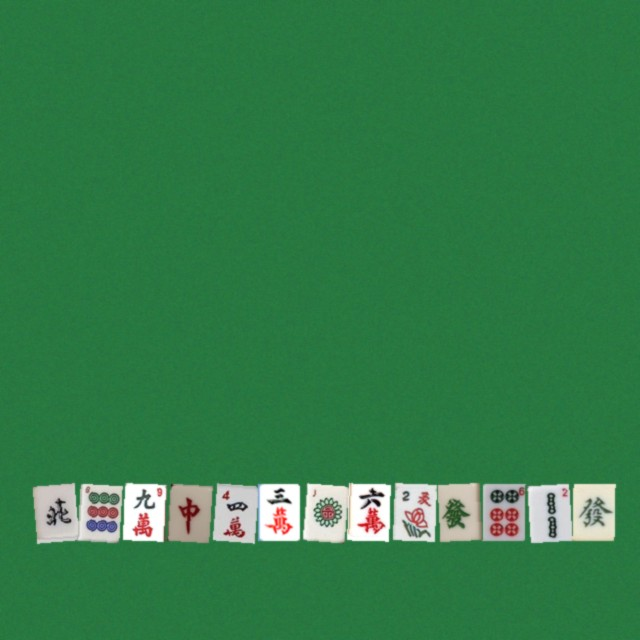tile: (32, 483, 74, 540), (77, 483, 119, 540), (122, 483, 164, 540), (167, 483, 209, 540), (212, 483, 254, 540), (257, 483, 299, 540), (302, 483, 344, 540), (347, 483, 389, 540), (392, 483, 434, 540), (437, 483, 479, 540), (482, 483, 524, 540), (527, 483, 569, 540), (572, 483, 614, 540)
